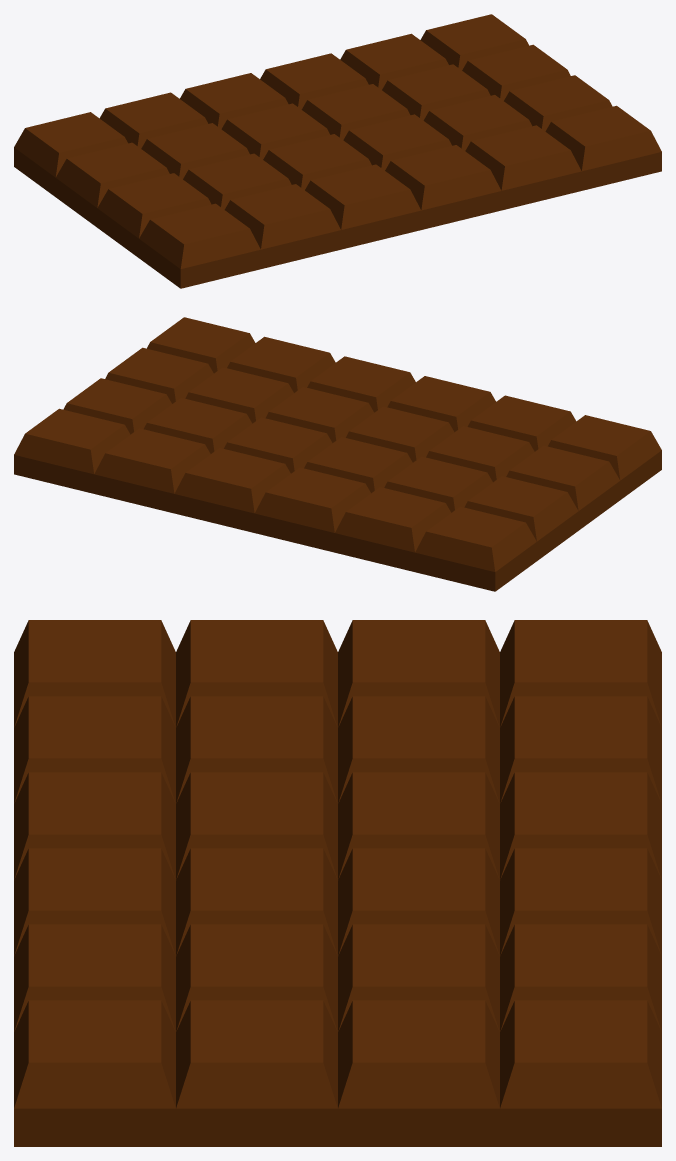
File: Chocolate.fbx
The picture shows the model from 3 angles, top to bottom: view 1: azimuth 30°, elevation 25°; view 2: azimuth 150°, elevation 25°; view 3: azimuth 270°, elevation 25°; orthographic projection. The views are drawn at different scales.
Parts seen in each view (by area): view 1: Chocolate; view 2: Chocolate; view 3: Chocolate.
Part boxes in pixels (bbox=[...]): Chocolate: bbox=[14, 14, 661, 288]; Chocolate: bbox=[14, 317, 661, 591]; Chocolate: bbox=[14, 620, 661, 1146].
Size of the model in its own units: 5 by 0.3947 by 3.
1 material, 1 textured.
